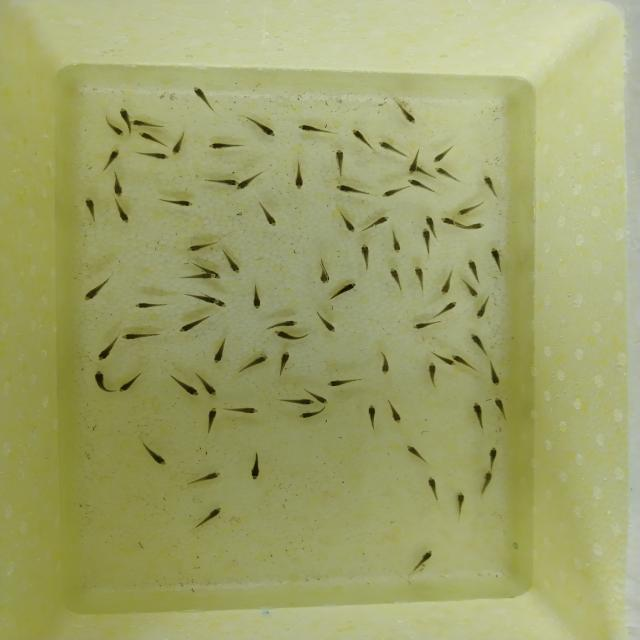fingerling: (138, 438, 168, 468), (83, 276, 115, 302), (190, 506, 222, 530), (92, 335, 118, 364), (243, 117, 278, 138), (237, 354, 270, 376), (259, 315, 299, 333), (469, 333, 494, 360), (179, 316, 214, 334), (247, 447, 266, 480), (396, 100, 420, 126), (426, 301, 460, 319), (268, 329, 308, 344), (117, 371, 144, 393), (192, 87, 216, 111), (328, 283, 358, 302), (94, 370, 115, 397), (476, 469, 495, 498), (155, 196, 197, 209), (412, 550, 435, 573), (197, 373, 219, 397), (403, 177, 436, 193), (407, 444, 431, 466), (259, 203, 280, 228), (491, 394, 511, 420), (170, 381, 200, 398), (210, 336, 228, 364), (193, 468, 226, 483), (468, 402, 487, 428), (349, 127, 371, 149), (433, 166, 459, 184), (376, 141, 405, 157), (450, 489, 466, 518), (183, 240, 216, 254), (296, 406, 329, 420), (459, 275, 478, 299), (180, 271, 218, 283), (234, 175, 260, 192), (114, 198, 131, 224), (410, 266, 427, 292), (103, 147, 123, 169), (338, 210, 358, 232), (316, 313, 338, 333), (386, 403, 405, 426), (137, 132, 166, 147), (277, 350, 293, 377), (326, 377, 362, 389), (489, 247, 506, 272), (441, 268, 456, 296), (413, 320, 443, 334), (121, 332, 159, 343), (476, 292, 492, 318), (378, 348, 394, 374), (109, 171, 125, 197), (200, 178, 236, 189), (226, 407, 262, 418), (366, 404, 380, 432), (389, 265, 404, 291), (485, 361, 501, 385), (203, 405, 219, 429), (129, 119, 167, 129), (334, 149, 348, 176), (293, 124, 334, 133), (366, 214, 392, 228), (118, 106, 132, 132), (426, 474, 441, 498), (332, 184, 368, 194), (431, 149, 451, 167), (464, 256, 480, 278), (207, 142, 242, 152), (185, 298, 220, 308), (481, 174, 496, 197), (171, 131, 184, 157), (359, 242, 372, 268), (379, 187, 407, 199), (224, 251, 239, 273), (137, 152, 170, 162), (454, 205, 481, 217), (250, 287, 262, 314), (426, 364, 442, 384), (421, 228, 432, 256), (387, 232, 401, 254), (485, 448, 499, 470), (284, 398, 314, 408), (294, 164, 305, 191), (83, 199, 96, 221), (137, 301, 167, 310), (452, 353, 472, 366), (462, 221, 485, 232), (408, 155, 420, 175), (432, 358, 456, 368), (320, 260, 329, 286), (439, 216, 460, 227), (104, 126, 122, 138), (313, 394, 330, 405), (424, 214, 436, 229)
